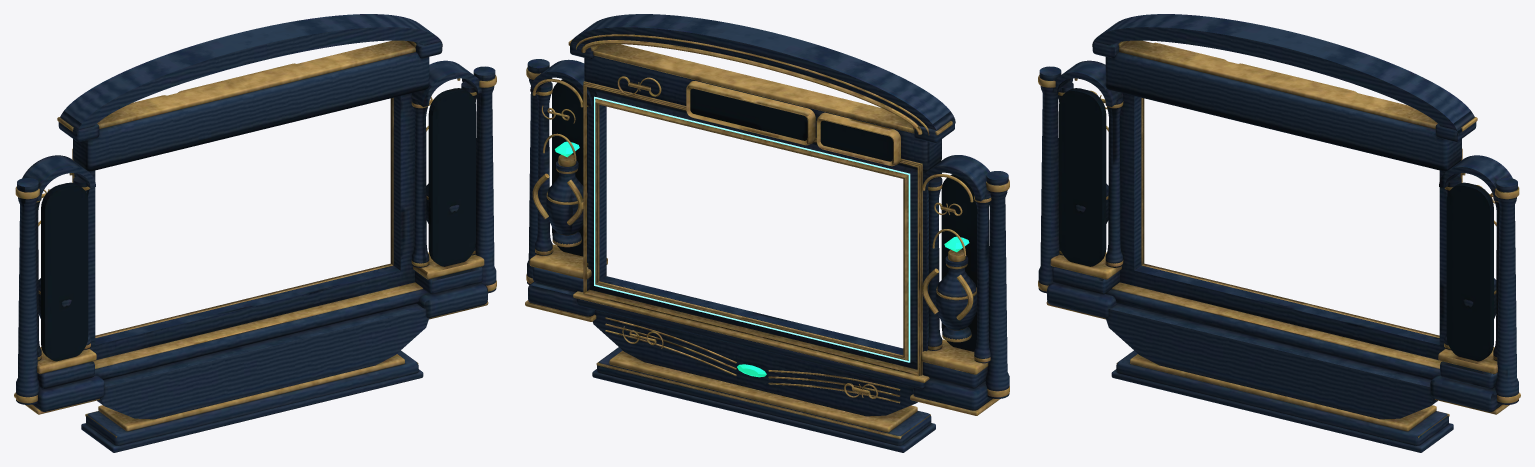
3 renders of one model, left to right at view 1: azimuth 30°, elevation 25°; view 2: azimuth 150°, elevation 25°; view 3: azimuth 330°, elevation 25°, orthographic.
Parts seen in each view (by area): view 1: Wind_carved_navy_sandstone, Even_midnight_inset, Antique_vessel_gold; view 2: Wind_carved_navy_sandstone, Antique_vessel_gold, Even_midnight_inset, glow_Gale_jade_inlay, glow_Emerald_stoppers; view 3: Wind_carved_navy_sandstone, Even_midnight_inset, Antique_vessel_gold.
Boxes of the visible parts, left/top/right/bottom form: Wind_carved_navy_sandstone: left=16, top=14, right=496, bottom=452; Even_midnight_inset: left=41, top=88, right=475, bottom=361; Antique_vessel_gold: left=14, top=40, right=496, bottom=438; Wind_carved_navy_sandstone: left=527, top=14, right=1009, bottom=452; Antique_vessel_gold: left=525, top=34, right=1009, bottom=439; Even_midnight_inset: left=552, top=79, right=988, bottom=351; glow_Gale_jade_inlay: left=594, top=96, right=910, bottom=362; glow_Emerald_stoppers: left=555, top=141, right=969, bottom=377; Wind_carved_navy_sandstone: left=1038, top=14, right=1518, bottom=452; Even_midnight_inset: left=1059, top=88, right=1493, bottom=361; Antique_vessel_gold: left=1038, top=40, right=1520, bottom=438.
Bounding box in the file's own units: 12.77 × 9.3 × 1.53.
Materials: 5 (3 with a texture image).
